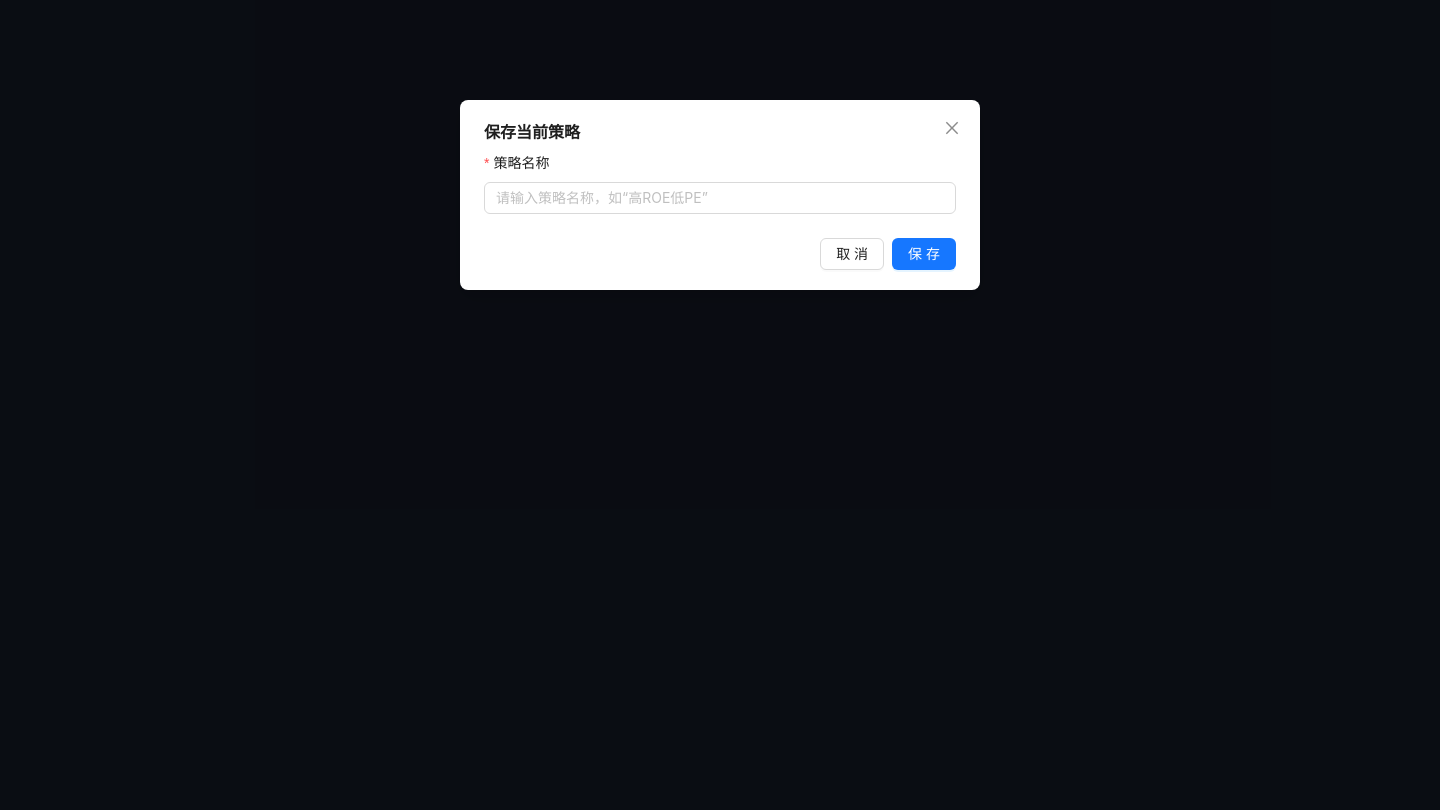
Test: SaveStrategyModal › 空名称不能保存（required 校验）
Click the button with test id "save-strategy-modal-ok" at (924, 254), box [892,238,956,270]
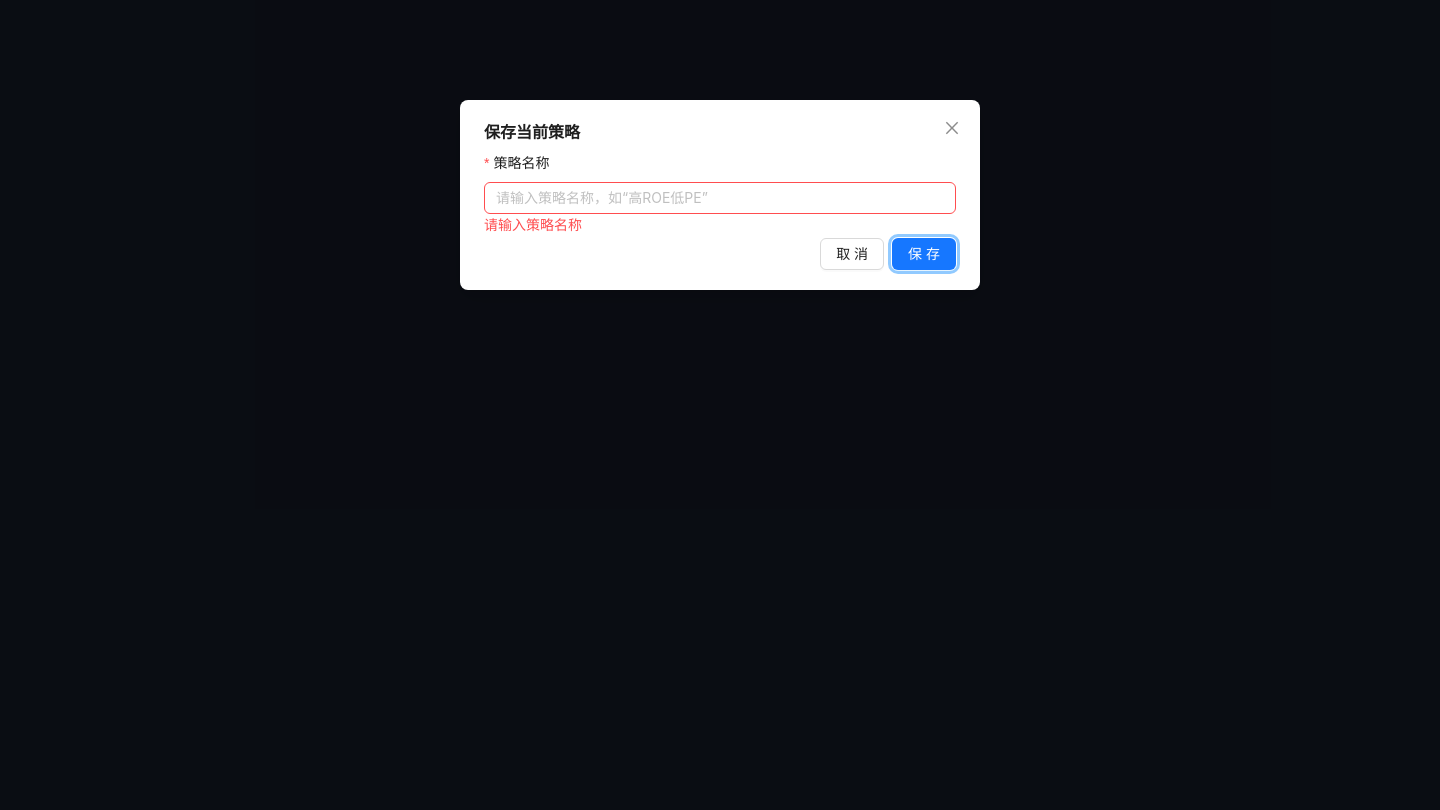
Result: the text "请输入策略名称" is shown at [484,216,582,233]
